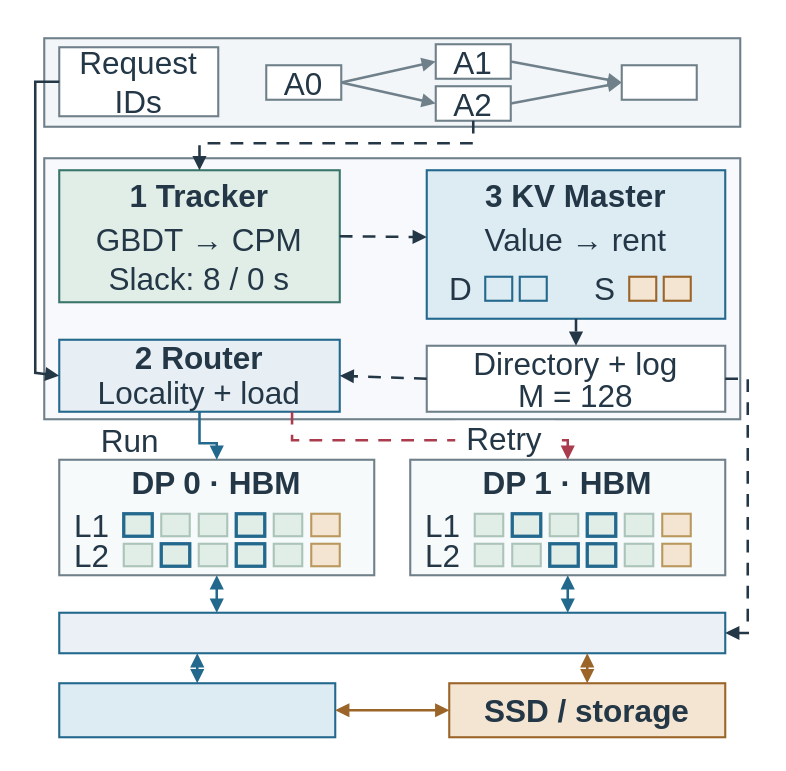
Image size: 786x771. Some labels were removed from this diagram. The centre of each missing label's shape, as x and y in pixels:
"A3" goes at (x=658, y=81).
"Engine hooks + KV transfer" goes at (x=391, y=632).
"Shared DRAM" goes at (x=196, y=709).
